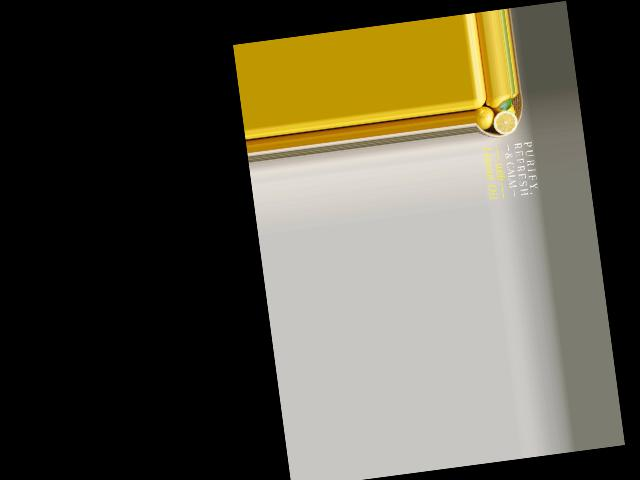lemon: (473, 105, 496, 129)
